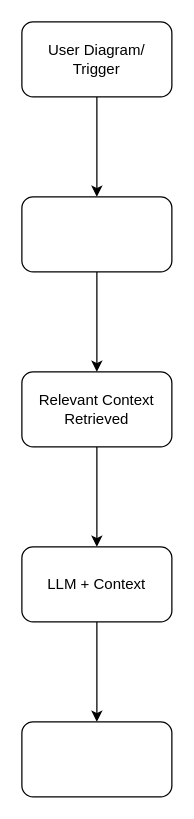
The diagram is 194 pixels wide and 819 high, and some of its shapes have lost their labels. Each missing label, with the centre of its shape:
Generated Insight: (96,759)
Retriever (Vector Search): (96,234)
